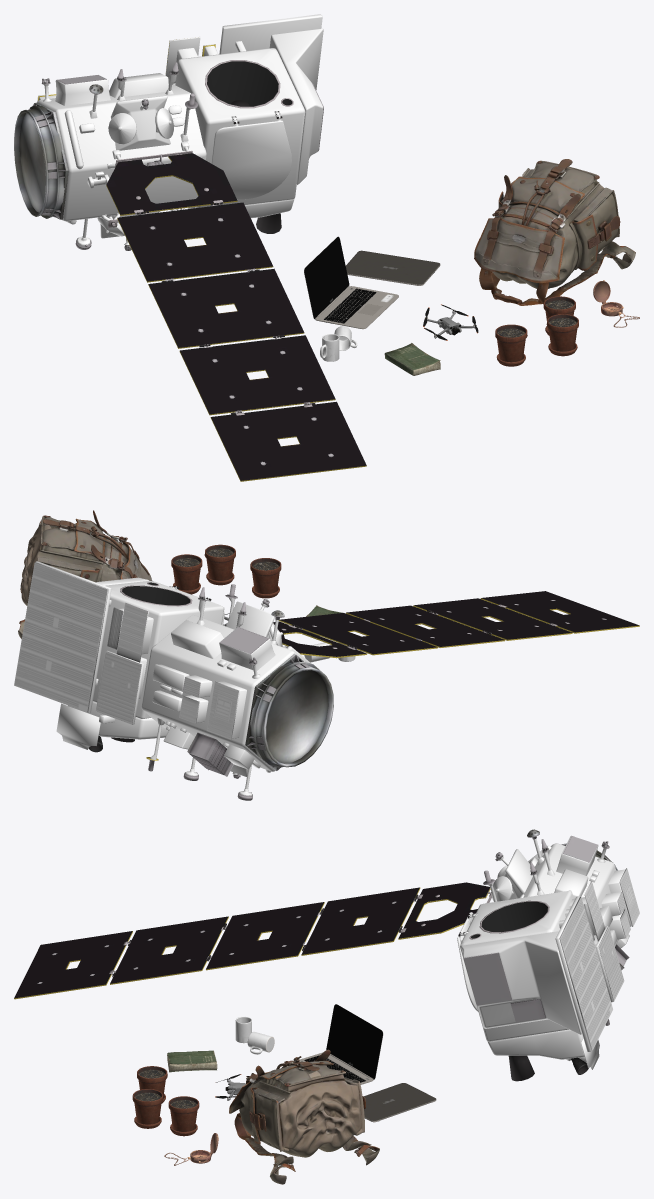
File: newSceneExportCompressed.glb
3 views of the same model, one above another, from view 1: azimuth 30°, elevation 25°; view 2: azimuth 150°, elevation 25°; view 3: azimuth 270°, elevation 25° (orthographic). The views are drawn at different scales.
Visible parts, largest first — view 1: instruments, BUS, Backpack, Laptop 1, Atlas scope, Terracotta_Dish_Plant_Pot_var2_0, Book, Cup 1, Compass, Dji drone; view 2: instruments, BUS, Backpack, Terracotta_Dish_Plant_Pot_var2_0, Atlas scope; view 3: instruments, BUS, Backpack, Laptop 1, Atlas scope, Terracotta_Dish_Plant_Pot_var2_0, Book, Cup 1, Compass.
Boxes of the visible parts, <box> form: instruments: <box>14,14,366,480</box>; BUS: <box>37,15,323,245</box>; Backpack: <box>474,159,635,305</box>; Laptop 1: <box>304,236,440,329</box>; Atlas scope: <box>38,39,366,481</box>; Terracotta_Dish_Plant_Pot_var2_0: <box>495,296,578,366</box>; Book: <box>384,343,440,375</box>; Cup 1: <box>320,326,357,361</box>; Compass: <box>593,280,639,327</box>; Dji drone: <box>423,304,478,340</box>; instruments: <box>14,562,639,800</box>; BUS: <box>18,561,311,795</box>; Backpack: <box>18,510,152,638</box>; Terracotta_Dish_Plant_Pot_var2_0: <box>171,544,281,598</box>; Atlas scope: <box>120,582,639,760</box>; instruments: <box>14,829,639,1081</box>; BUS: <box>457,836,631,1069</box>; Backpack: <box>229,1049,379,1184</box>; Laptop 1: <box>286,1004,436,1122</box>; Atlas scope: <box>14,887,549,999</box>; Terracotta_Dish_Plant_Pot_var2_0: <box>132,1066,199,1136</box>; Book: <box>167,1050,217,1072</box>; Cup 1: <box>235,1016,274,1054</box>; Compass: <box>164,1133,218,1165</box>.
Size of the model in its own units: 3 by 1.04 by 3.31.
Materials: 14 (12 with a texture image).
